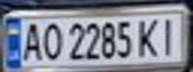2: (63, 19, 87, 61), (81, 19, 103, 61)
5: (115, 17, 136, 59)
8: (100, 18, 118, 61)
A: (18, 19, 45, 62)
I: (154, 15, 184, 56)
K: (136, 16, 163, 58)
O: (39, 19, 66, 62)
